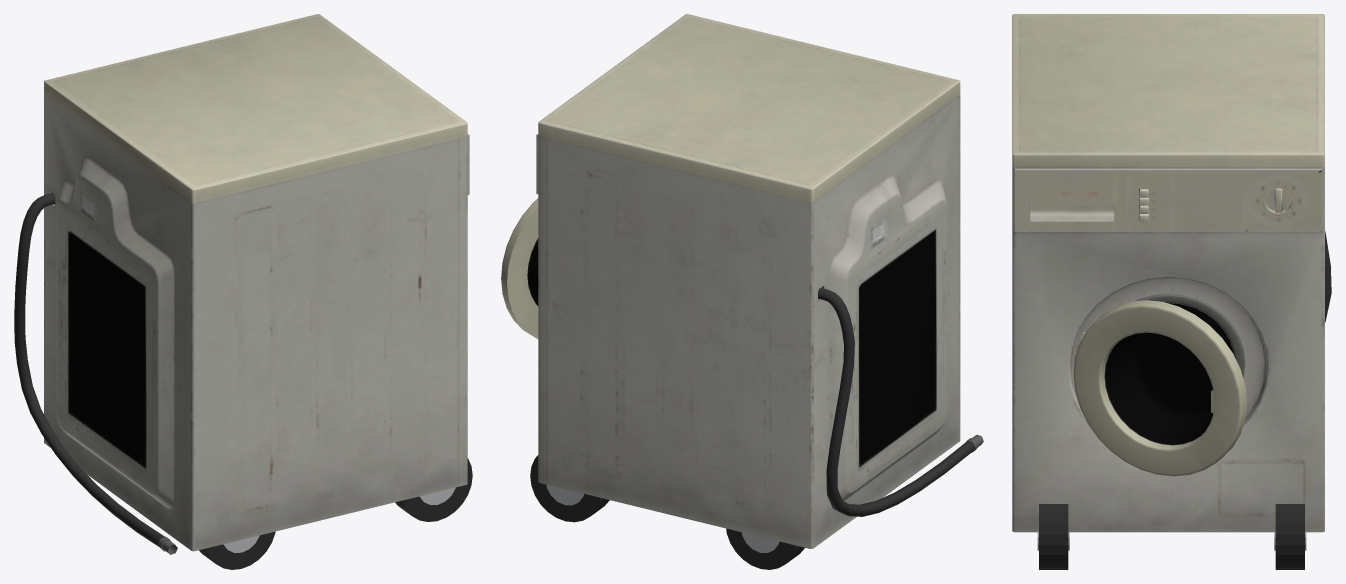
The model's file is centrifugona.glb.
3 views of the same model, side by side, from view 1: azimuth 30°, elevation 25°; view 2: azimuth 150°, elevation 25°; view 3: azimuth 270°, elevation 25° (orthographic). The views are drawn at different scales.
Visible parts, largest first — view 1: body, wheel_fr_tire, wheel_rr_tire; view 2: body, hood, wheel_fl_tire, wheel_rl_tire; view 3: body, hood, wheel_fl_tire, wheel_fr_tire.
Boxes of the visible parts, box(x1,y1,x2,y2) form: body: box(14, 14, 469, 554); wheel_fr_tire: box(395, 458, 472, 521); wheel_rr_tire: box(199, 531, 275, 569); body: box(536, 14, 983, 548); hood: box(501, 198, 538, 338); wheel_fl_tire: box(530, 455, 609, 522); wheel_rl_tire: box(726, 528, 804, 569); body: box(1012, 14, 1331, 532); hood: box(1073, 293, 1246, 476); wheel_fl_tire: box(1275, 504, 1304, 569); wheel_fr_tire: box(1039, 504, 1068, 569).
Bounding box in the file's own units: 1.42 × 1.41 × 0.9713.
3 materials, 3 textured.
